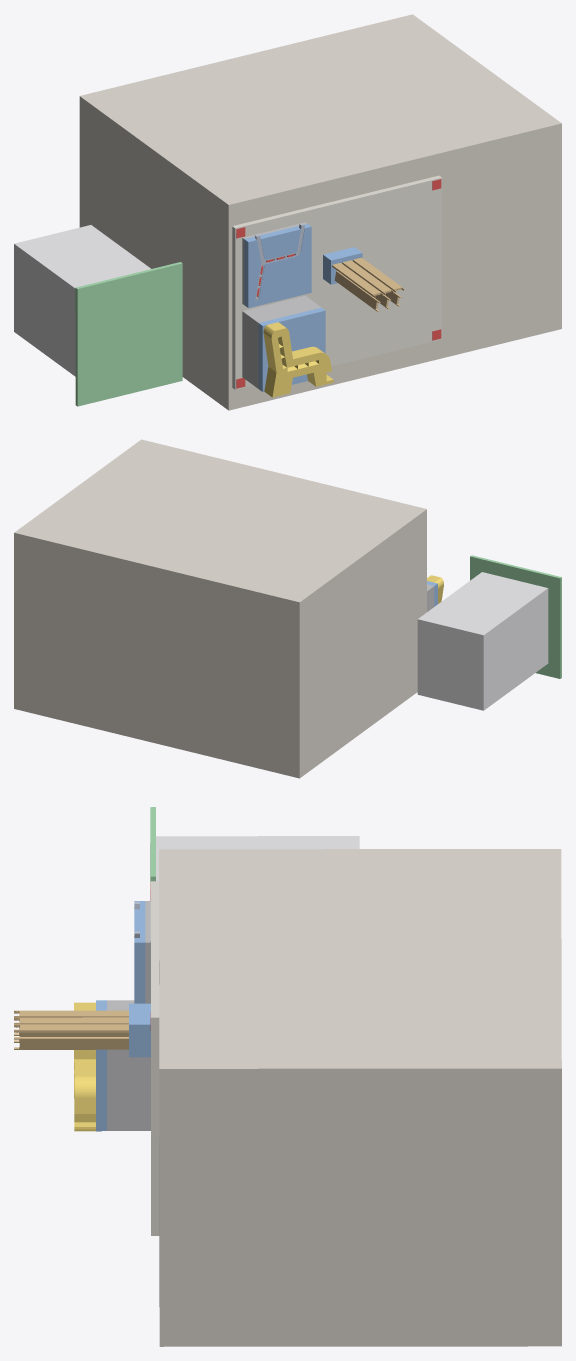
The model's file is cell.glb.
3 views of the same model, one above another, from view 1: azimuth 30°, elevation 25°; view 2: azimuth 150°, elevation 25°; view 3: azimuth 270°, elevation 25° (orthographic). The views are drawn at different scales.
Visible parts, largest first — view 1: Table, Ground base plate, AMR plate, AMR top module, Base A, Guide, Base B, Base B riser, Plank jig, plank6, frame1; view 2: Table, AMR top module, AMR plate; view 3: Table, Base B riser, Ground base plate, AMR top module, Guide, plank4, Plank jig, Base A, plank2, Base B, plank1, plank3.
Part boxes in pixels (box(x1,y1,x2,y2)): Table: box(79, 14, 561, 410); Ground base plate: box(232, 175, 442, 389); AMR plate: box(75, 262, 182, 406); AMR top module: box(14, 225, 150, 376); Base A: box(244, 224, 311, 308); Guide: box(263, 322, 333, 397); Base B: box(258, 307, 325, 391); Base B riser: box(242, 295, 321, 388); Plank jig: box(323, 247, 362, 284); plank6: box(334, 271, 380, 311); frame1: box(254, 223, 304, 300); Table: box(14, 439, 426, 778); AMR top module: box(417, 572, 548, 710); AMR plate: box(470, 555, 561, 678); Table: box(159, 849, 561, 1346); Base B riser: box(107, 1000, 150, 1130); Ground base plate: box(150, 881, 159, 1235); AMR top module: box(156, 836, 359, 881); Guide: box(74, 1002, 95, 1131); plank4: box(14, 1037, 128, 1049); Plank jig: box(129, 1003, 150, 1057); Base A: box(134, 901, 145, 1003); plank2: box(14, 1024, 128, 1032); Base B: box(96, 1000, 106, 1131); plank1: box(14, 1017, 128, 1024); plank3: box(14, 1010, 128, 1017).
Bounding box in the file's own units: 1390 × 561 × 1001.
